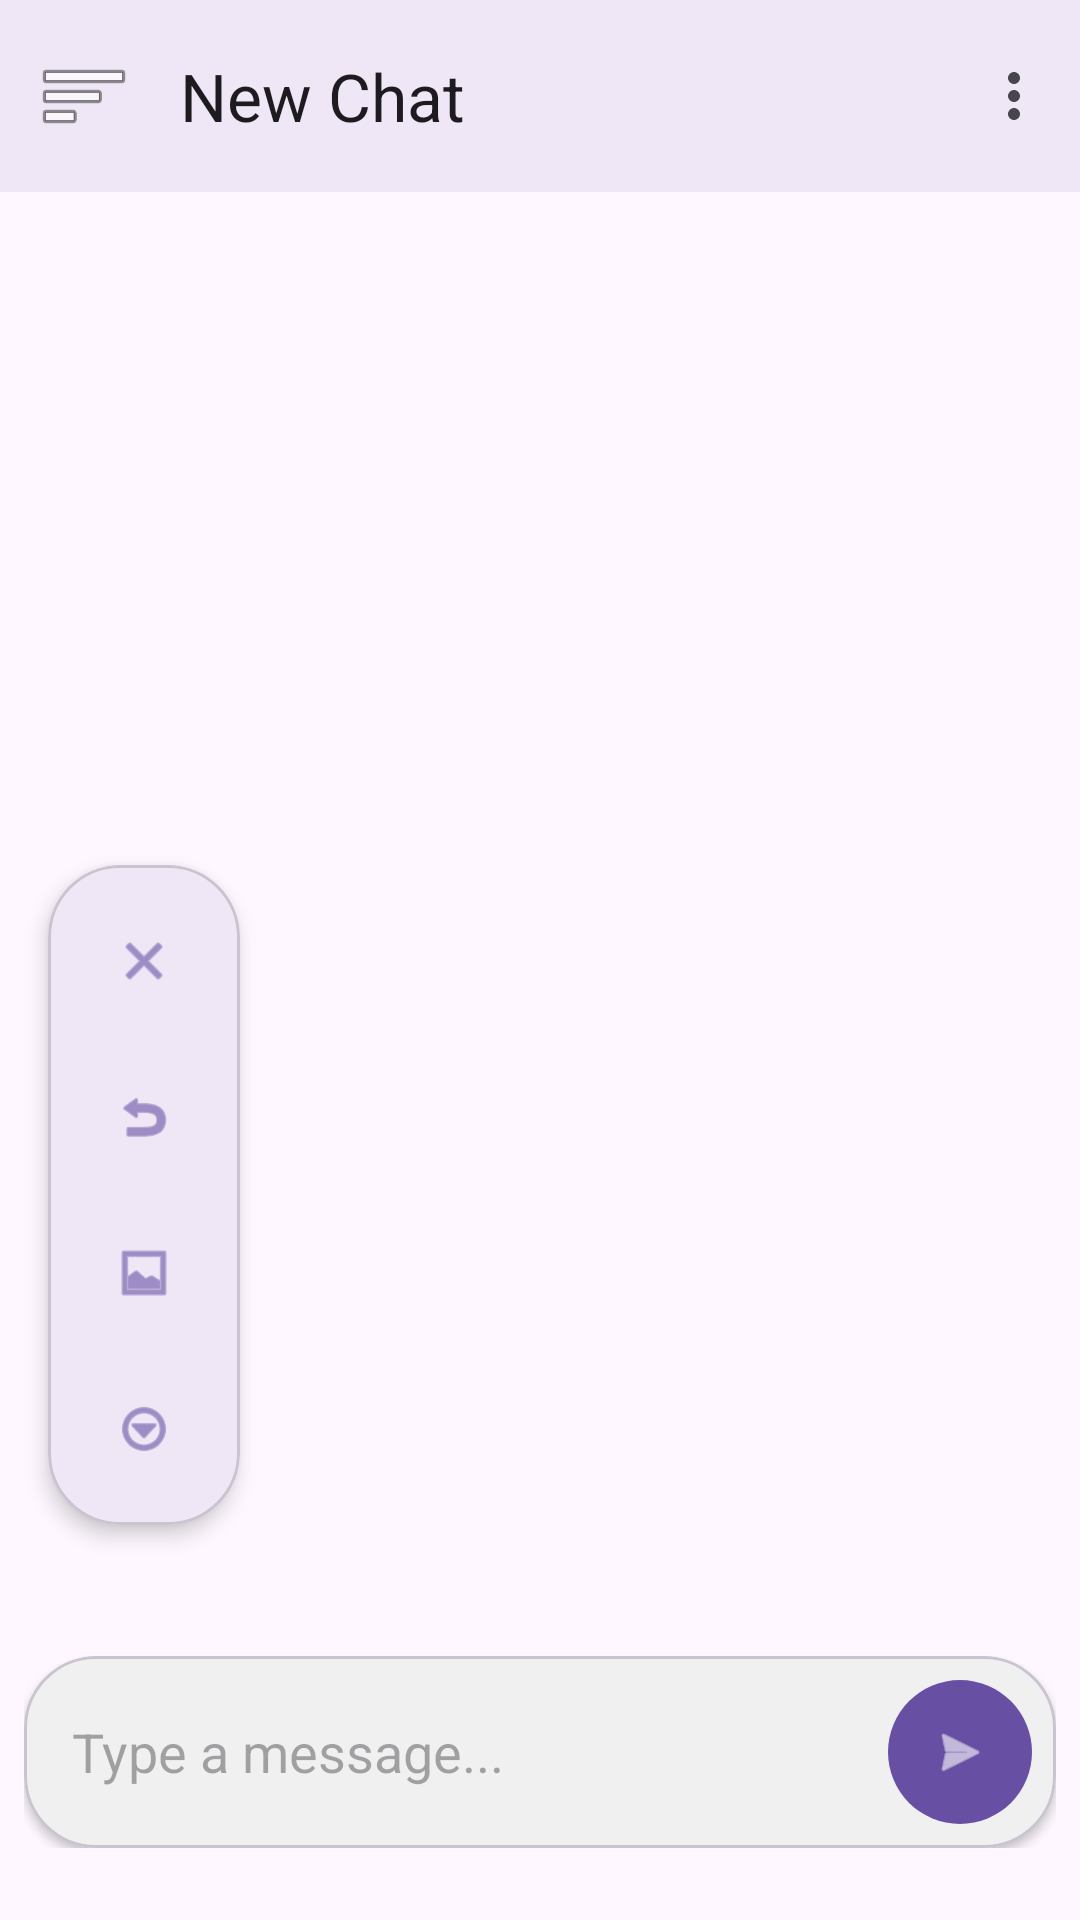

Icons on this 1080px×1920px Android screen, each with its box as {"left": x1, "top": y1, "right": x2, "bottom": y2}:
close clear cancel: {"left": 125, "top": 942, "right": 163, "bottom": 980}
gallery: {"left": 121, "top": 1250, "right": 167, "bottom": 1296}
revert: {"left": 123, "top": 1098, "right": 166, "bottom": 1137}
send: {"left": 888, "top": 1680, "right": 1032, "bottom": 1824}
